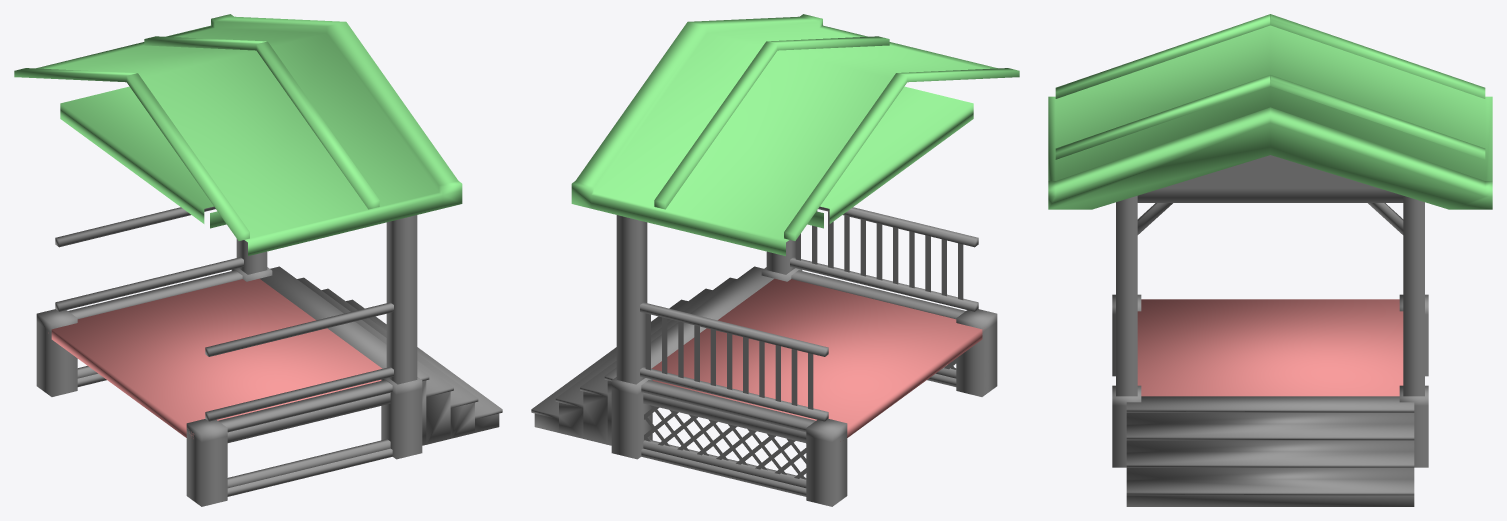
Rendered from SM_veranda_02.gltf.
The picture shows the model from 3 angles, left to right: view 1: azimuth 30°, elevation 25°; view 2: azimuth 150°, elevation 25°; view 3: azimuth 270°, elevation 25°; orthographic projection. The views are drawn at different scales.
Parts seen in each view (by area): view 1: SM_veranda_02; view 2: SM_veranda_02; view 3: SM_veranda_02.
Boxes of the visible parts, x1=… form: SM_veranda_02: x1=14, y1=14, x2=502, y2=506; SM_veranda_02: x1=531, y1=14, x2=1019, y2=506; SM_veranda_02: x1=1048, y1=14, x2=1492, y2=506.
Bounding box in the file's own units: 4.75 × 5.44 × 6.18.
